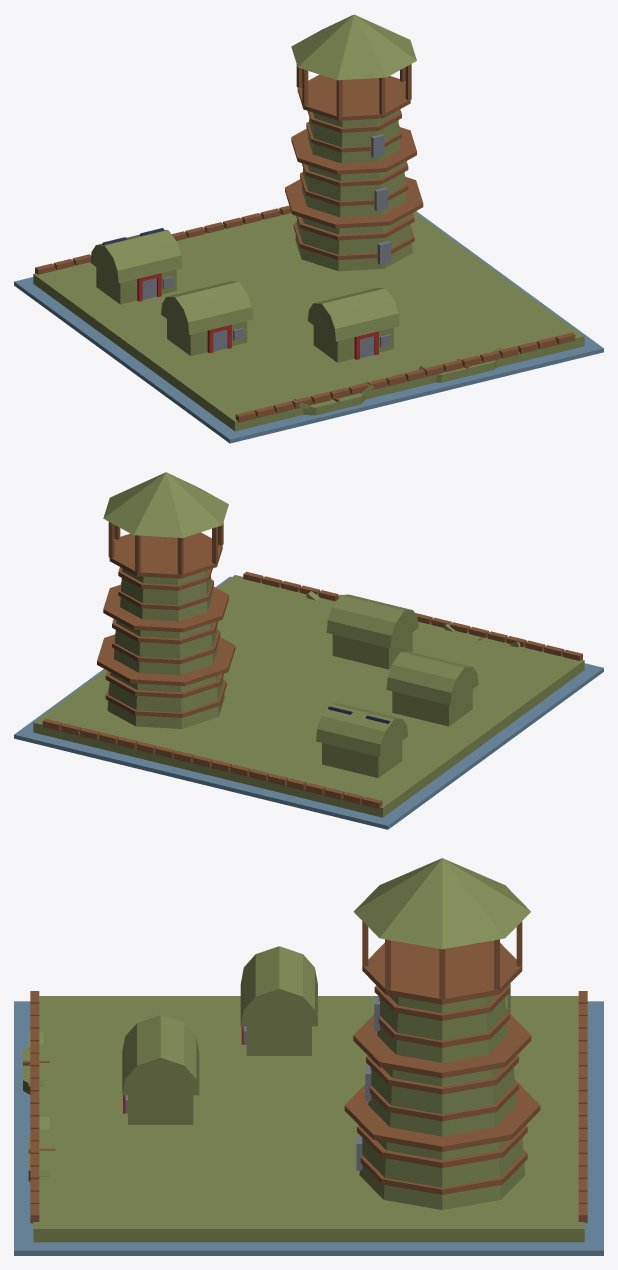
Rendered from house-2x2-3f-totora-a-solar.glb.
3 views of the same model, one above another, from view 1: azimuth 30°, elevation 25°; view 2: azimuth 150°, elevation 25°; view 3: azimuth 270°, elevation 25° (orthographic). The views are drawn at different scales.
Parts seen in each view (by area): view 1: house-2x2-3f-totora-a-solar; view 2: house-2x2-3f-totora-a-solar; view 3: house-2x2-3f-totora-a-solar.
Part boxes in pixels (x1=…): house-2x2-3f-totora-a-solar: x1=14, y1=14, x2=603, y2=443; house-2x2-3f-totora-a-solar: x1=14, y1=472, x2=603, y2=829; house-2x2-3f-totora-a-solar: x1=14, y1=858, x2=603, y2=1255.
Bounding box in the file's own units: 1.99 × 1.25 × 1.99.
Materials: 1 (1 with a texture image).
